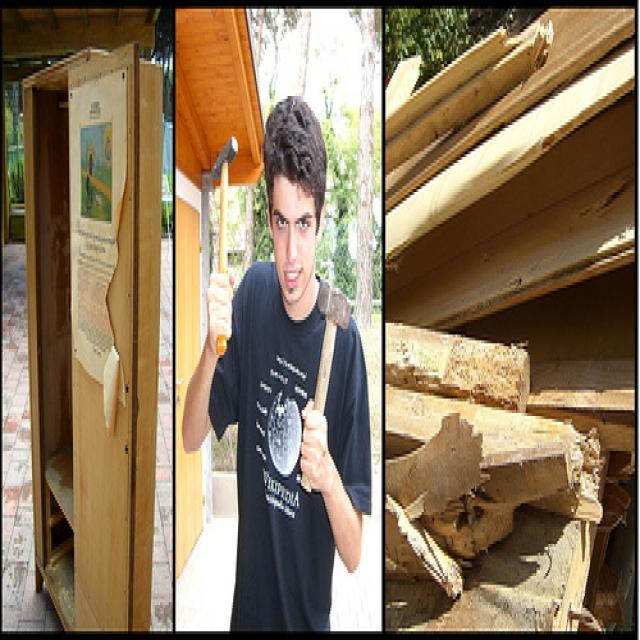hammer: (301, 270, 357, 510), (201, 123, 245, 358)
